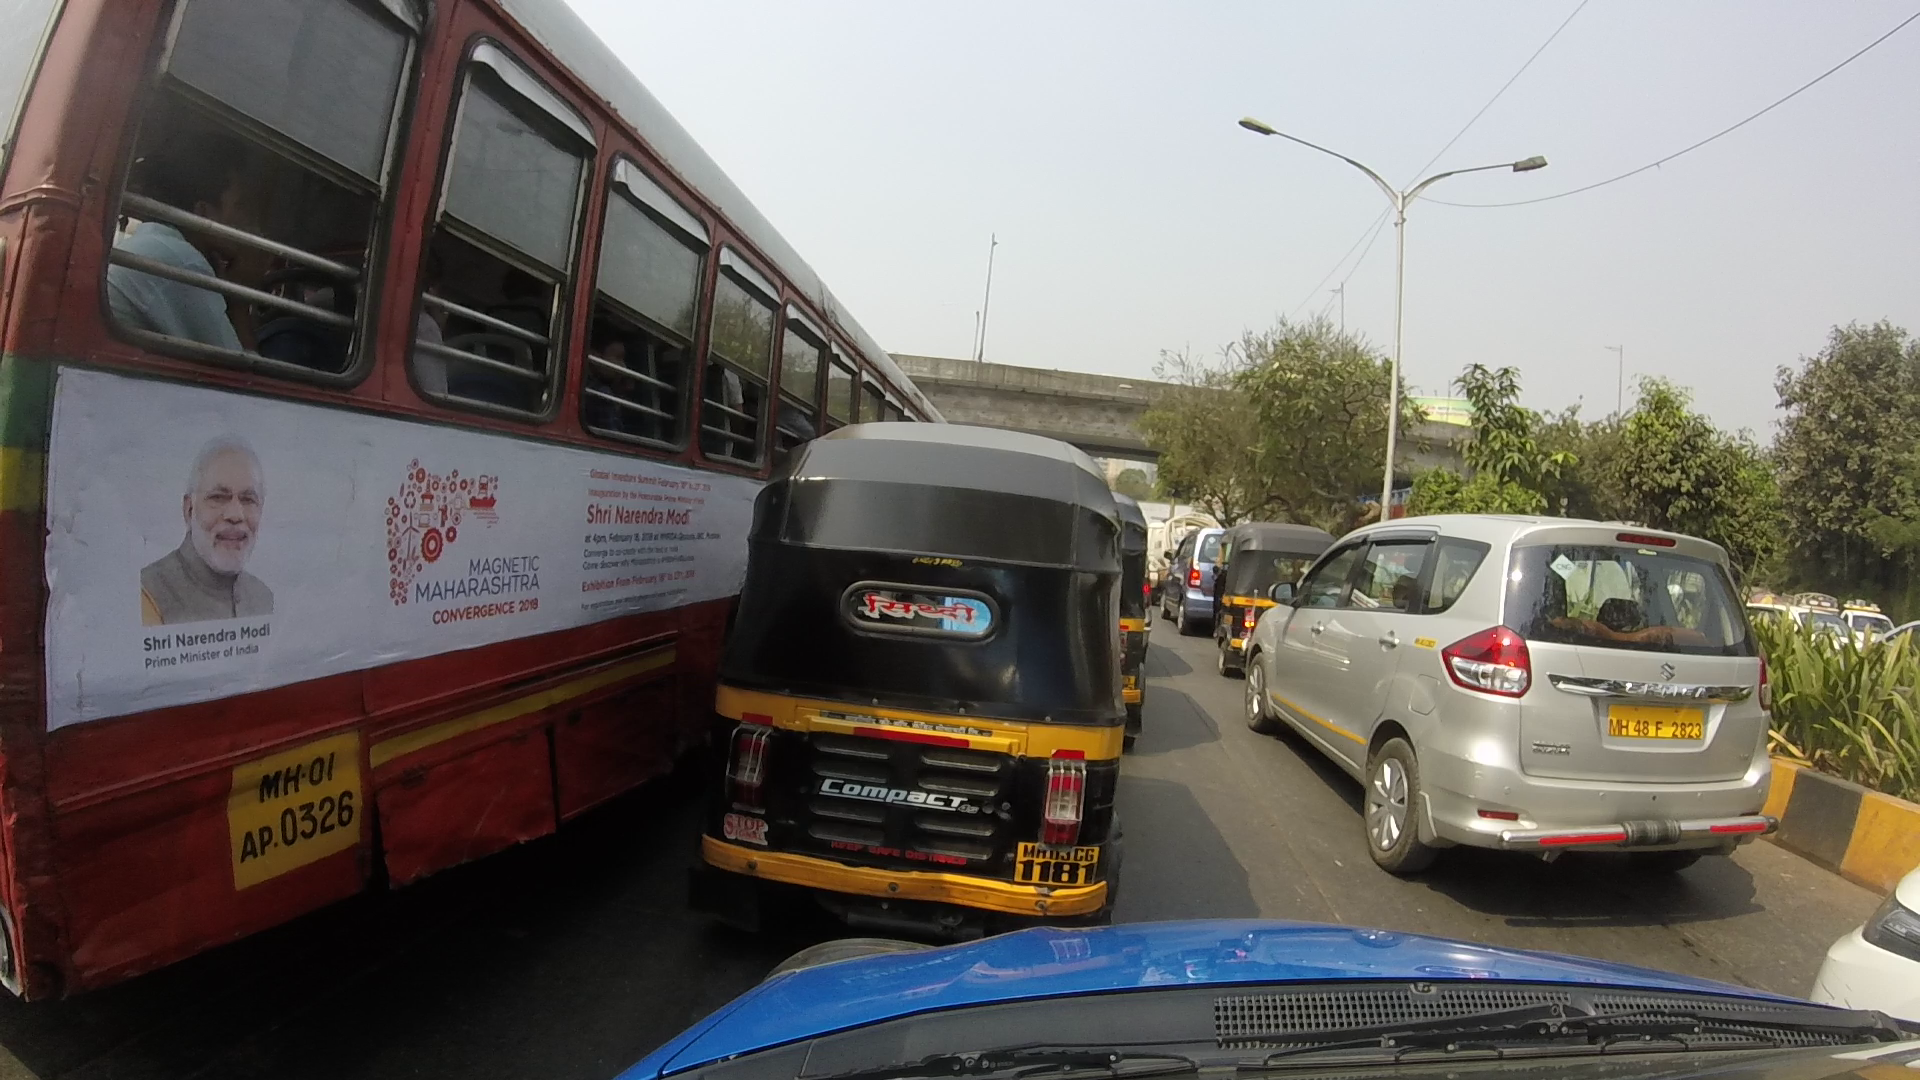bus: (1, 1, 897, 1011)
car: (1262, 510, 1778, 890), (1807, 843, 1920, 1015)
rickshaw: (727, 410, 1121, 919), (1101, 484, 1192, 742), (1211, 487, 1324, 675)
